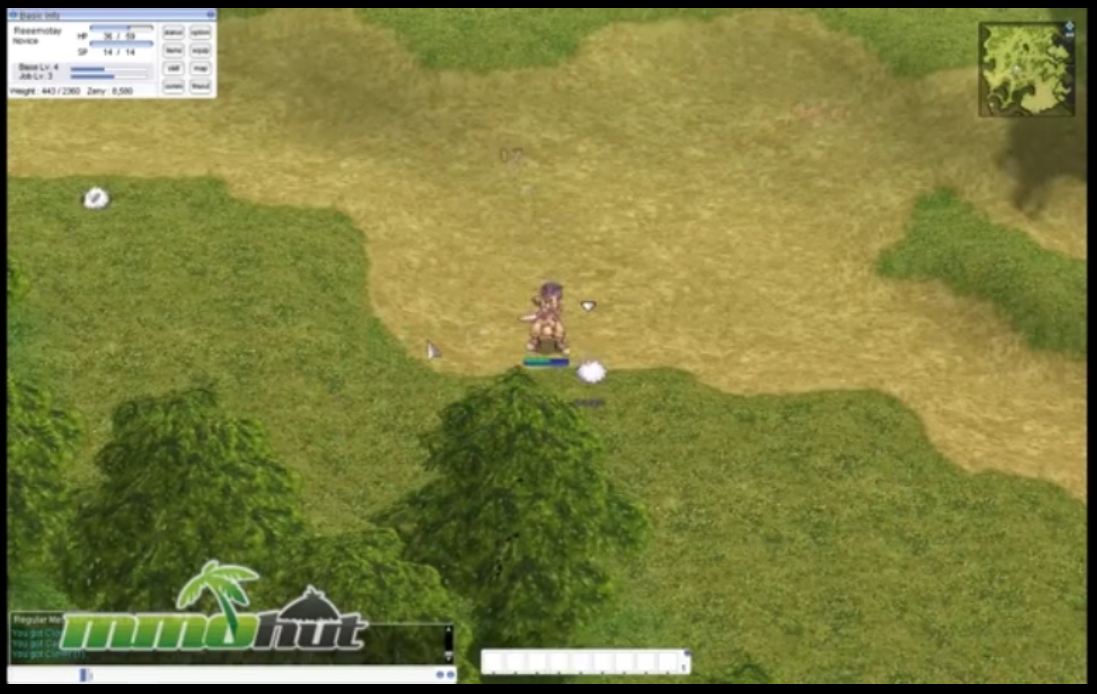lunatic: (574, 353, 609, 384), (84, 180, 111, 210)
